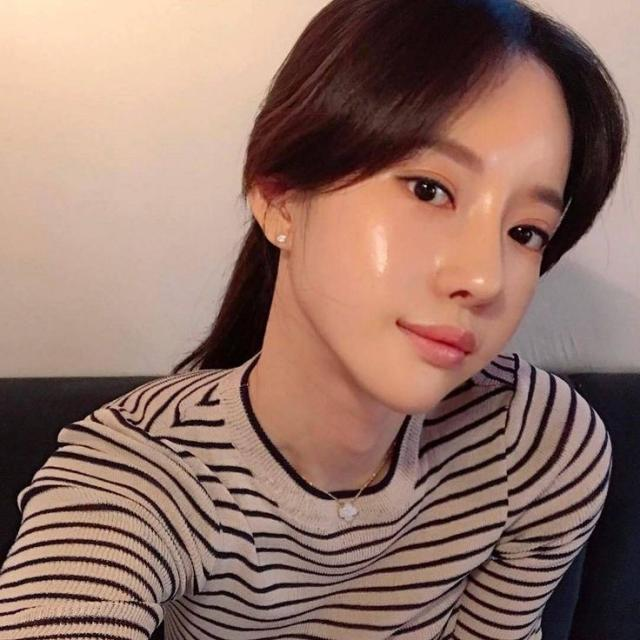oily: (336, 194, 414, 316), (490, 99, 566, 178), (470, 198, 508, 301), (372, 364, 442, 412)
